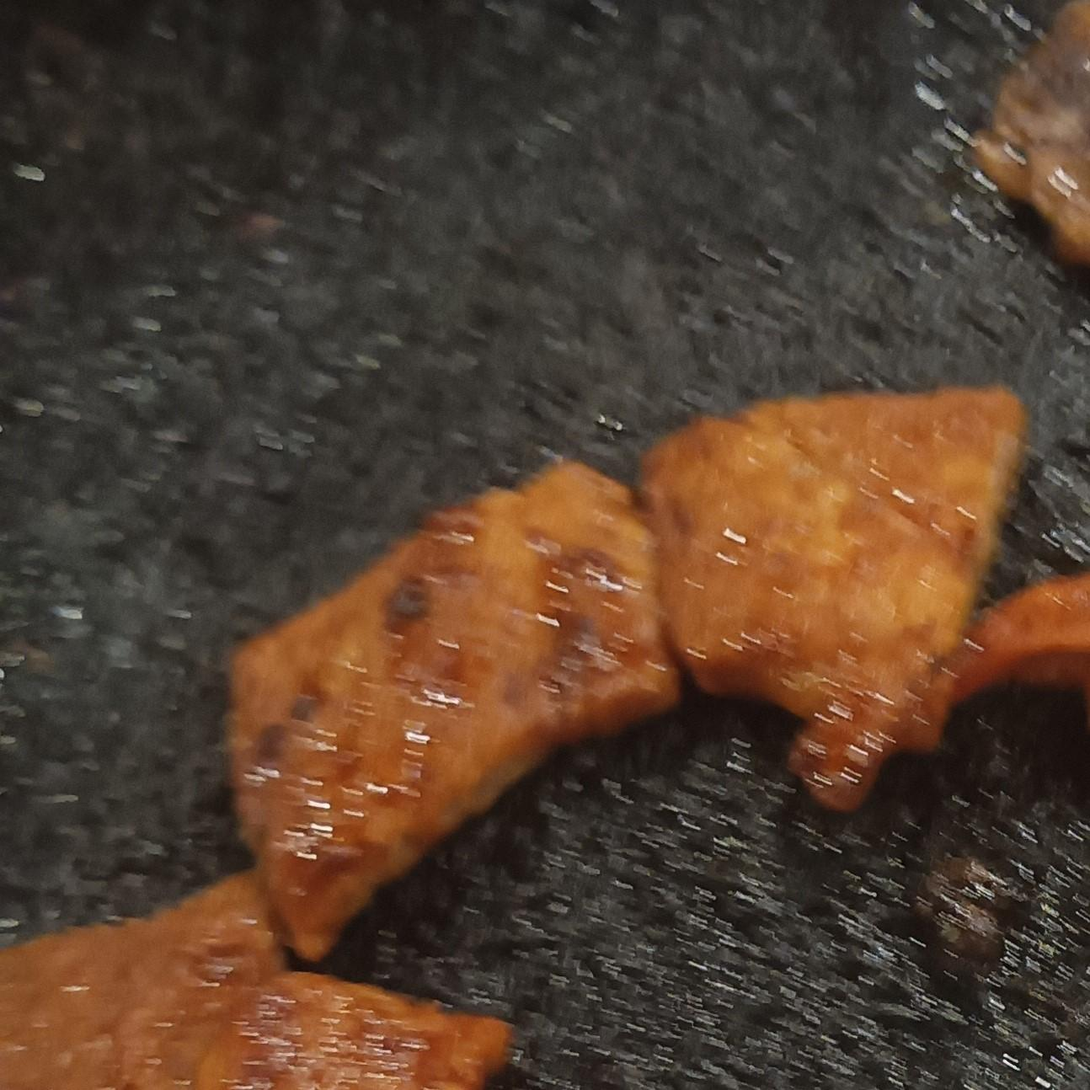Overcooked: (0, 389, 1089, 1089), (973, 0, 1089, 283)
